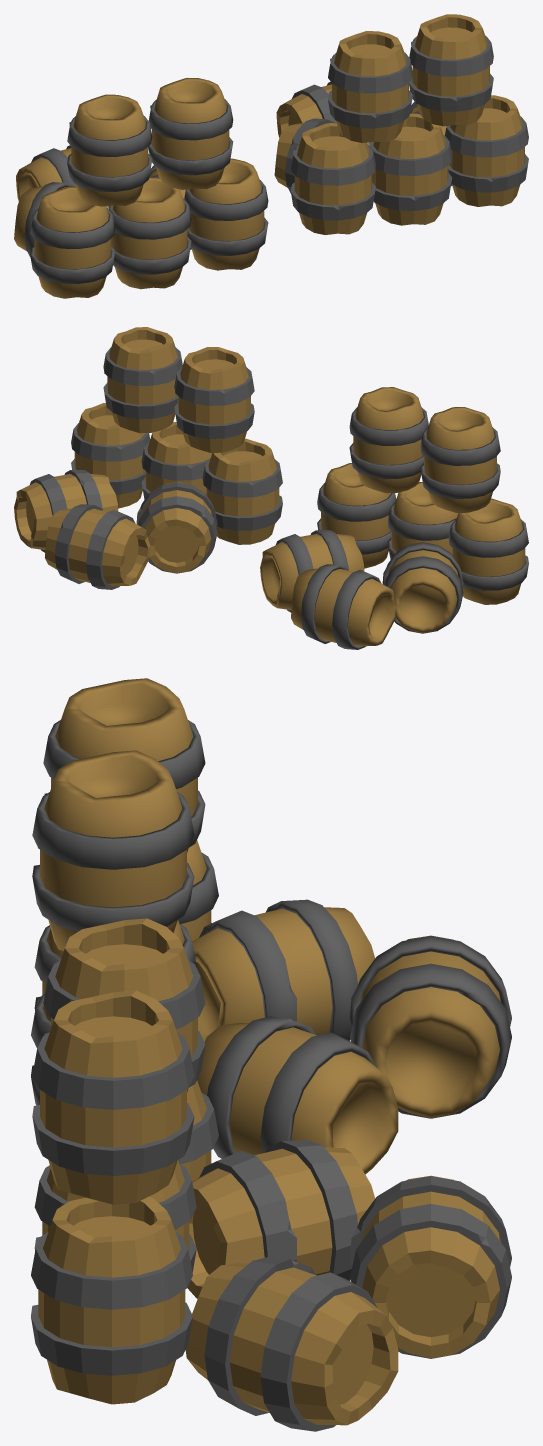
Rendered from Barrels_merged.fbx.
The picture shows the model from 3 angles, top to bottom: view 1: azimuth 30°, elevation 25°; view 2: azimuth 150°, elevation 25°; view 3: azimuth 270°, elevation 25°; orthographic projection. The views are drawn at different scales.
Parts seen in each view (by area): view 1: Cylinder.005, Cylinder.001, Cylinder.006, Cylinder.009, Cylinder.013, Cylinder.010, Cylinder.003, Cylinder.007, Cylinder.014, Cylinder.012, Cylinder.015, Cylinder.002 (+2 smaller); view 2: Cylinder.002, Cylinder.015, Cylinder.005, Cylinder.001, Cylinder.009, Cylinder.006, Cylinder.010, Cylinder.013, Cylinder.008, Cylinder.011, Cylinder.012, Cylinder.014 (+4 smaller); view 3: Cylinder.006, Cylinder.004, Cylinder.012, Cylinder.009, Cylinder.015, Cylinder.002, Cylinder.016, Cylinder.008, Cylinder.011, Cylinder.001, Cylinder.005, Cylinder.003 (+3 smaller).
Boxes of the visible parts, x1,y1,x2,y2 form: Cylinder.005: (67, 94, 152, 206); Cylinder.001: (328, 31, 412, 142); Cylinder.006: (409, 14, 493, 126); Cylinder.009: (148, 78, 233, 189); Cylinder.013: (30, 186, 115, 298); Cylinder.010: (291, 123, 375, 234); Cylinder.003: (369, 113, 452, 225); Cylinder.007: (108, 177, 191, 289); Cylinder.014: (184, 158, 268, 270); Cylinder.012: (445, 95, 528, 206); Cylinder.015: (16, 145, 75, 201); Cylinder.002: (276, 81, 336, 137); Cylinder.002: (45, 504, 150, 589); Cylinder.015: (291, 564, 396, 649); Cylinder.005: (420, 407, 500, 512); Cylinder.001: (174, 347, 254, 452); Cylinder.009: (349, 387, 428, 493); Cylinder.006: (103, 327, 182, 433); Cylinder.010: (202, 438, 282, 544); Cylinder.013: (448, 498, 528, 604); Cylinder.008: (136, 482, 217, 573); Cylinder.011: (382, 542, 463, 633); Cylinder.012: (71, 403, 150, 508); Cylinder.014: (317, 463, 396, 568); Cylinder.006: (32, 990, 194, 1204); Cylinder.004: (185, 1256, 398, 1431); Cylinder.012: (31, 1196, 192, 1404); Cylinder.009: (32, 750, 194, 950); Cylinder.015: (350, 935, 511, 1118); Cylinder.002: (350, 1175, 511, 1358); Cylinder.016: (197, 1016, 398, 1174); Cylinder.008: (187, 1140, 374, 1298); Cylinder.011: (192, 899, 375, 1041); Cylinder.001: (43, 918, 205, 1092); Cylinder.005: (43, 678, 205, 852); Cylinder.003: (34, 1160, 196, 1272).
Size of the model in its own units: 2023 by 776 by 910.
